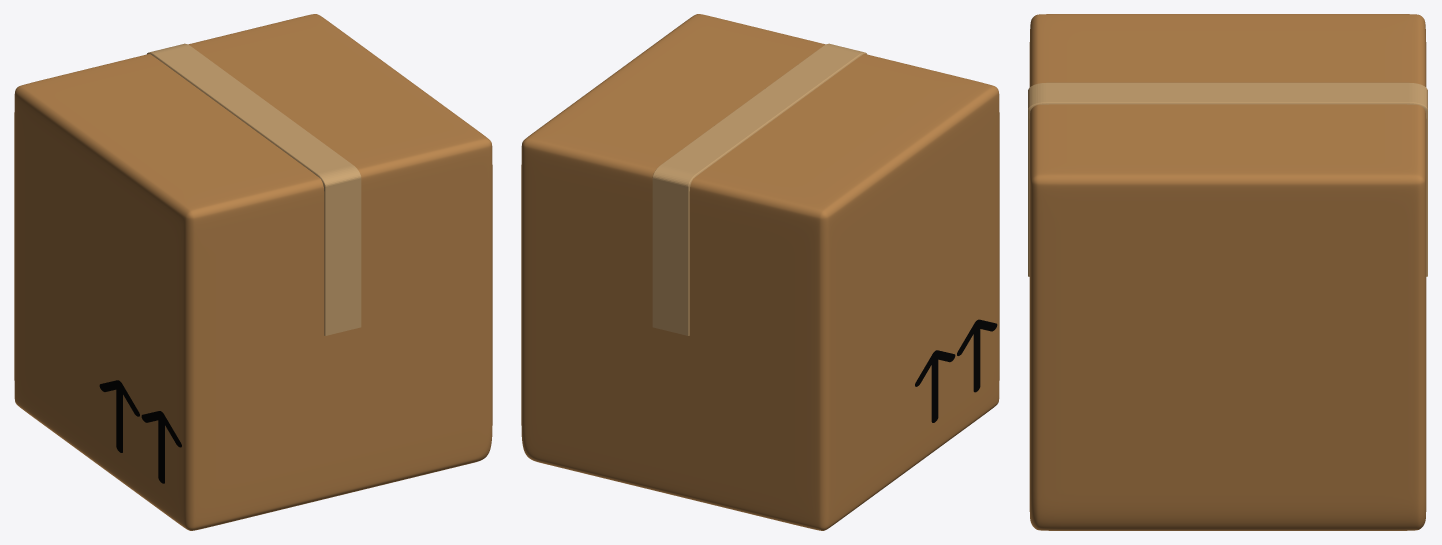
File: Antidote_box.glb
The picture shows the model from 3 angles, left to right: view 1: azimuth 30°, elevation 25°; view 2: azimuth 150°, elevation 25°; view 3: azimuth 270°, elevation 25°; orthographic projection. The views are drawn at different scales.
Visible parts, largest first — view 1: Object_2, Object_3, Object_4; view 2: Object_2, Object_3, Object_4; view 3: Object_2, Object_3.
Boxes of the visible parts, box(x1,y1,x2,y2) form: Object_2: box(14, 14, 492, 530); Object_3: box(147, 43, 361, 335); Object_4: box(99, 380, 181, 483); Object_2: box(521, 14, 999, 530); Object_3: box(652, 43, 866, 335); Object_4: box(915, 319, 997, 422); Object_2: box(1029, 14, 1426, 530); Object_3: box(1028, 82, 1427, 276).
Bounding box in the file's own units: 2 × 2.01 × 2.02.
